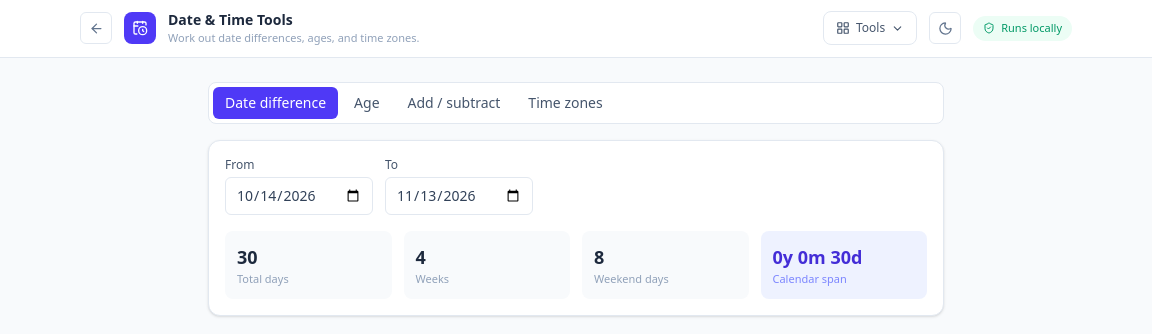
Test case: DateTimeApp › computes a date difference
Type "2026-01-01" into the date field named "From date" at (299, 196), box x1=225 y1=176 x2=373 y2=214
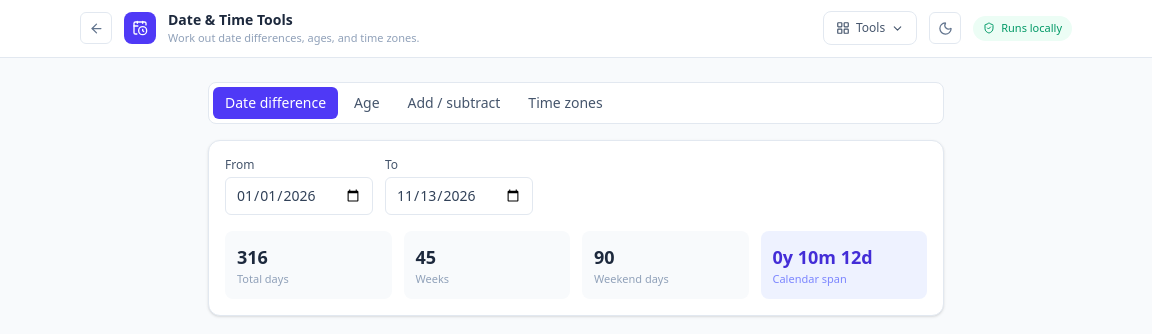
Type "2026-03-01" into the date field named "To date" at (459, 196), box x1=385 y1=176 x2=533 y2=214
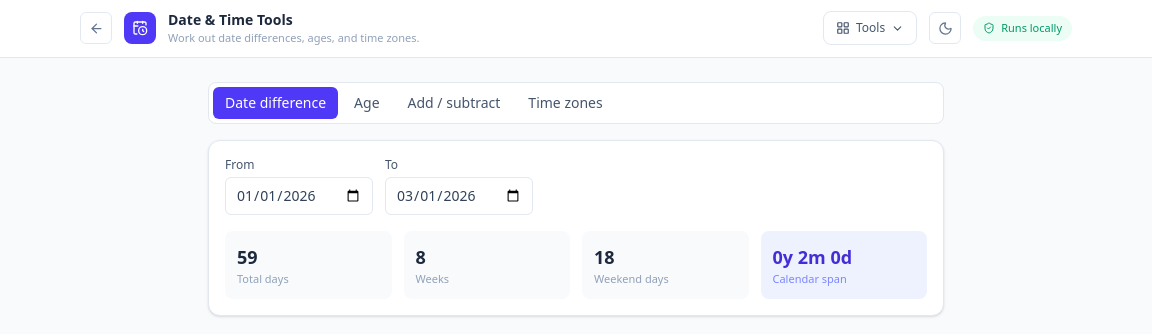
expect the text "59" is shown: met, box x1=237 y1=244 x2=258 y2=268
